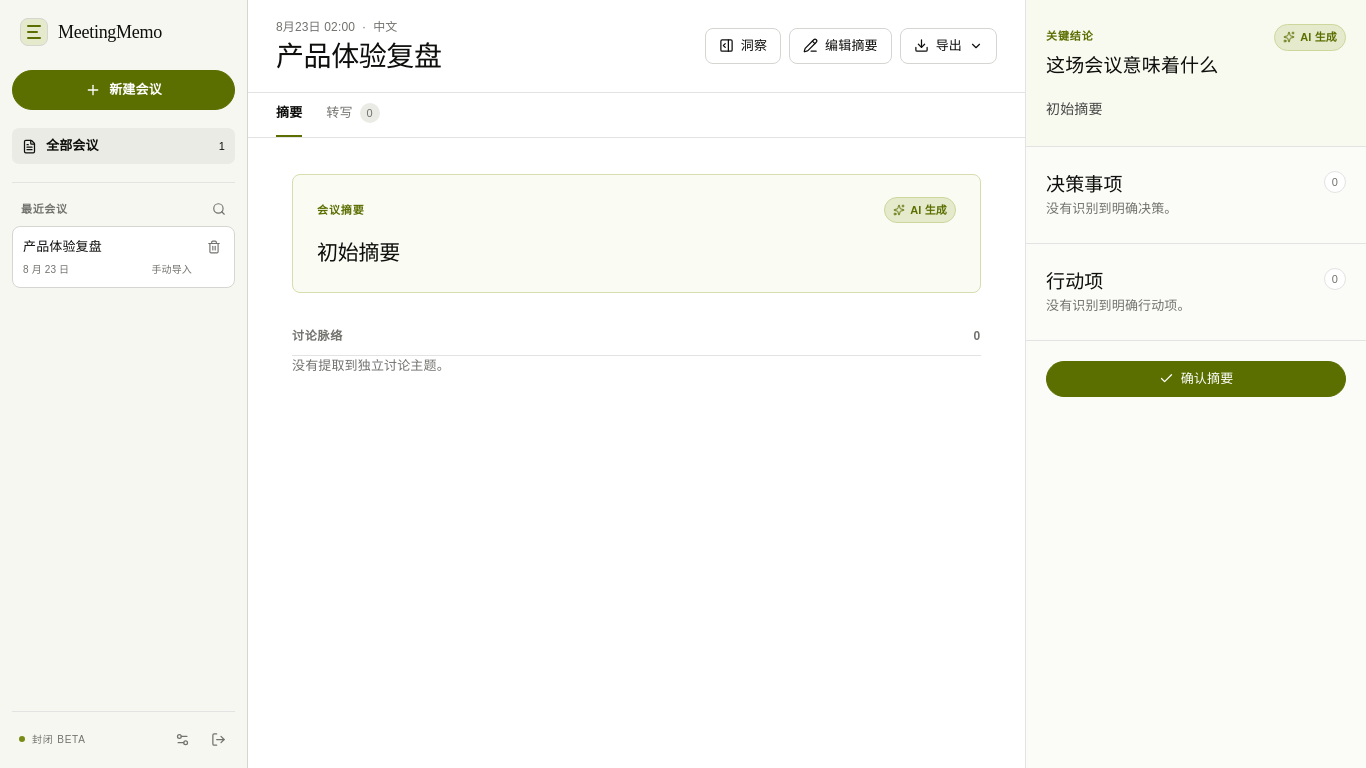
Test: MeetingMemoApp › reports approval as ready to export without mentioning delivery
Click the button "确认摘要": (1196, 379) [1046, 361, 1346, 397]
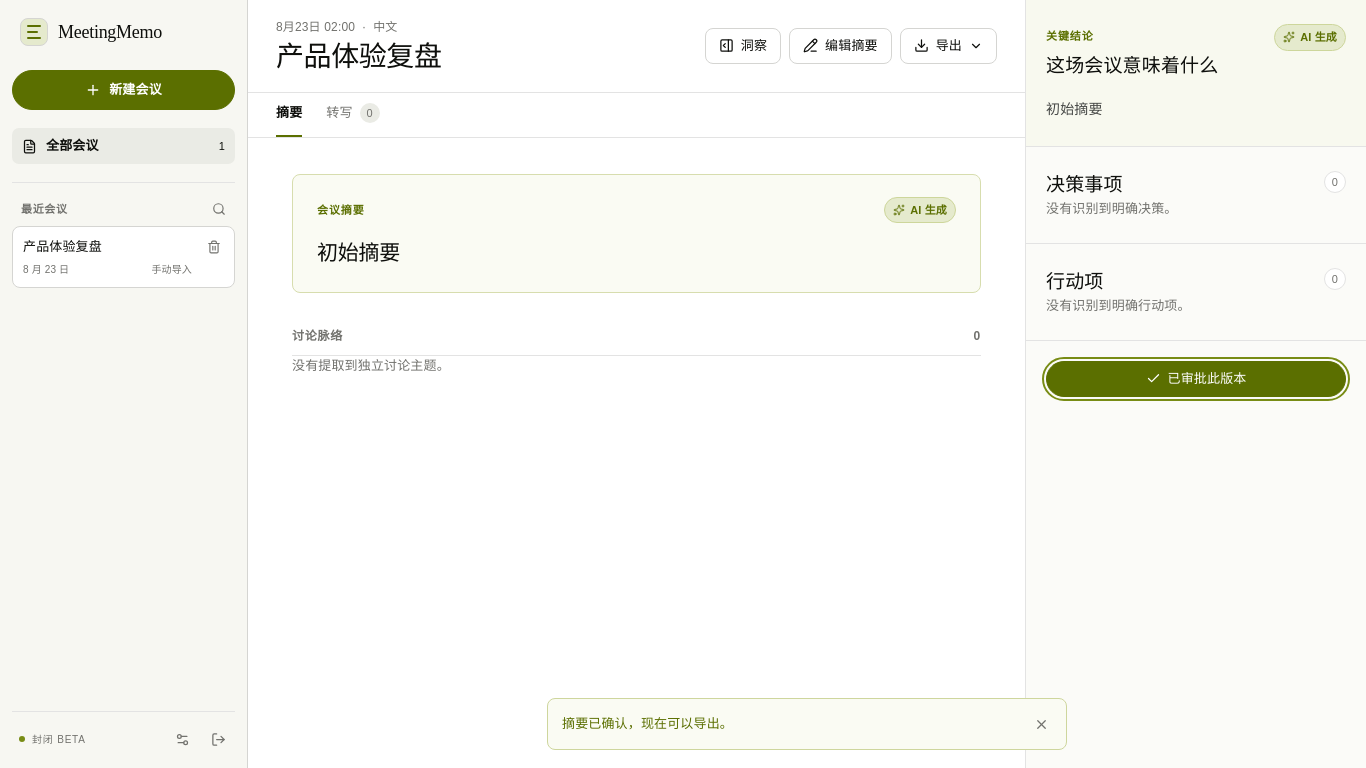
Expected: the message reads "摘要已确认，现在可以导出。", [562, 716, 733, 731]
